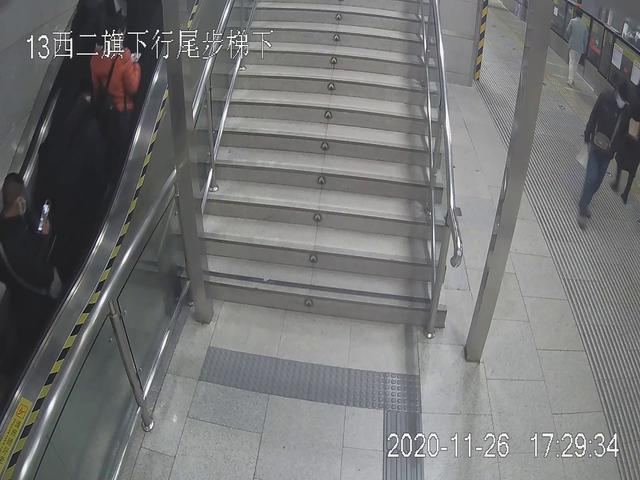person: (578, 75, 630, 235), (562, 11, 590, 84)
